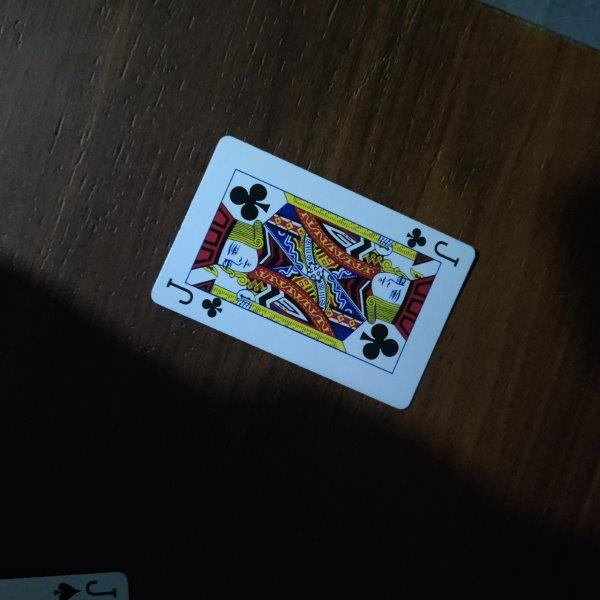Jack of Clubs: (150, 135, 477, 413)
Jack of Spades: (2, 572, 127, 600)
